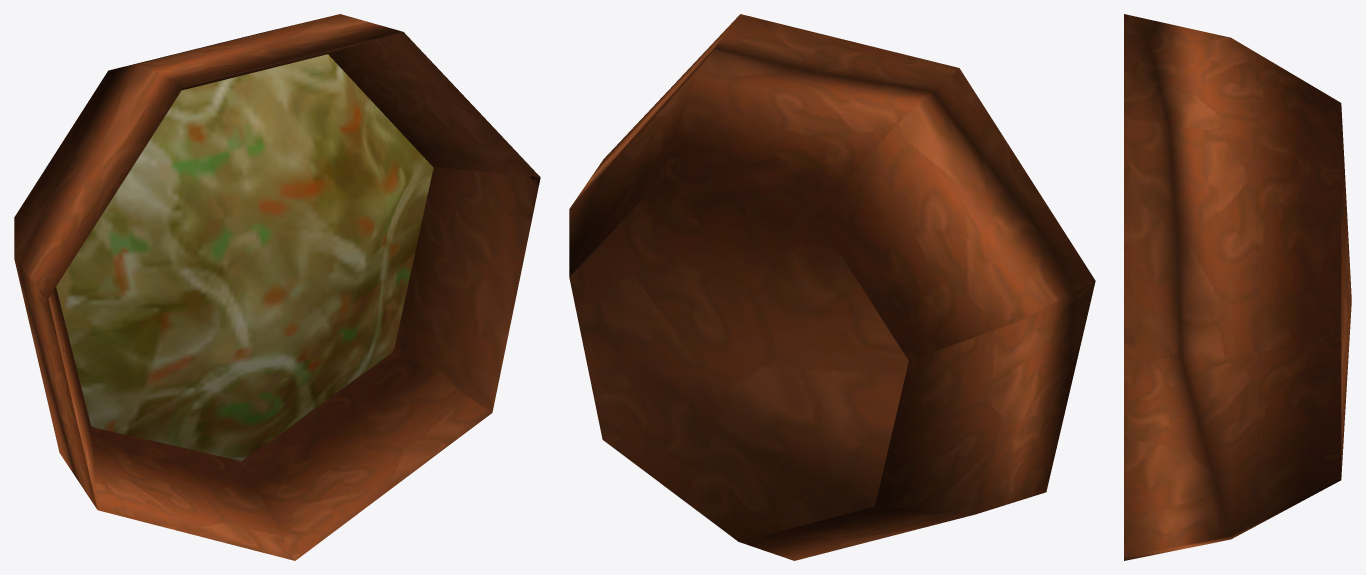
File: ItFo_Stew.fbx
The picture shows the model from 3 angles, left to right: view 1: azimuth 30°, elevation 25°; view 2: azimuth 150°, elevation 25°; view 3: azimuth 270°, elevation 25°; orthographic projection.
Parts seen in each view (by area): view 1: 3DSMesh_0; view 2: 3DSMesh_0; view 3: 3DSMesh_0.
Boxes of the visible parts, box(x1,y1,x2,y2) form: 3DSMesh_0: box(14, 14, 540, 560); 3DSMesh_0: box(569, 14, 1095, 560); 3DSMesh_0: box(1124, 14, 1351, 560).
Bounding box in the file's own units: 32.19 × 31.4 × 13.11.
